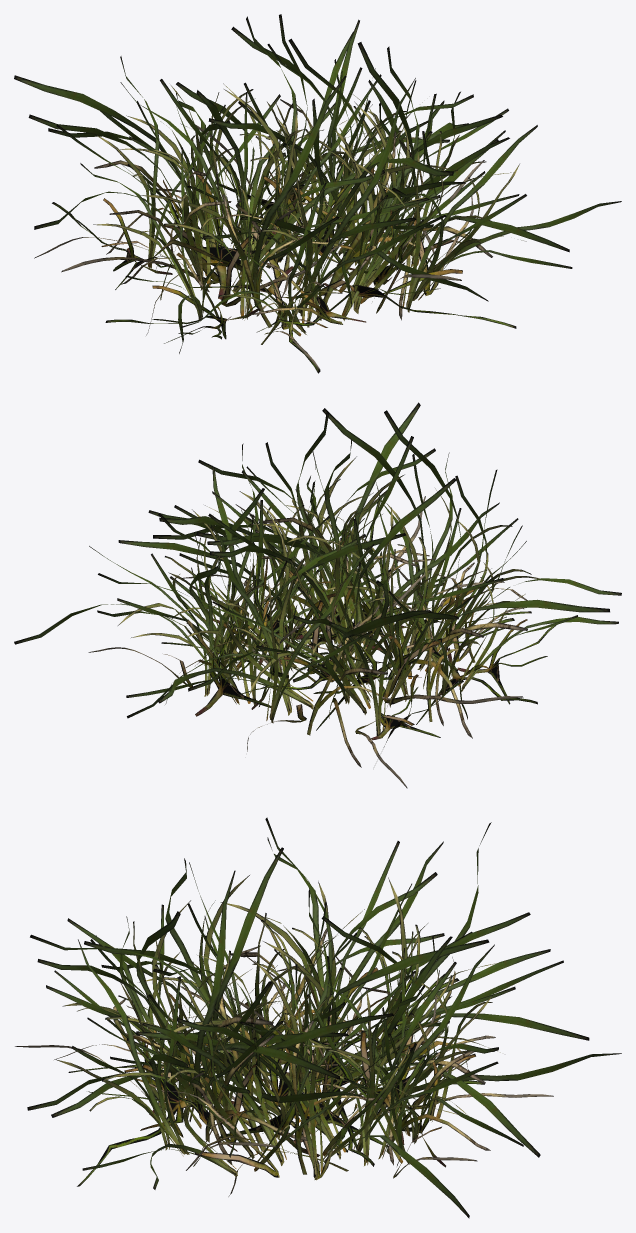
The model's file is grass_medium_01_large_c_LOD0.glb.
3 views of the same model, one above another, from view 1: azimuth 30°, elevation 25°; view 2: azimuth 150°, elevation 25°; view 3: azimuth 270°, elevation 25° (orthographic). The views are drawn at different scales.
Parts seen in each view (by area): view 1: grass_medium_01_large_c_LOD0; view 2: grass_medium_01_large_c_LOD0; view 3: grass_medium_01_large_c_LOD0.
Boxes of the visible parts, box(x1,y1,x2,y2) form: grass_medium_01_large_c_LOD0: box(14, 14, 621, 373); grass_medium_01_large_c_LOD0: box(14, 402, 621, 788); grass_medium_01_large_c_LOD0: box(15, 817, 621, 1218).
Size of the model in its own units: 0.2788 by 0.1423 by 0.2551.
Materials: 1 (1 with a texture image).
